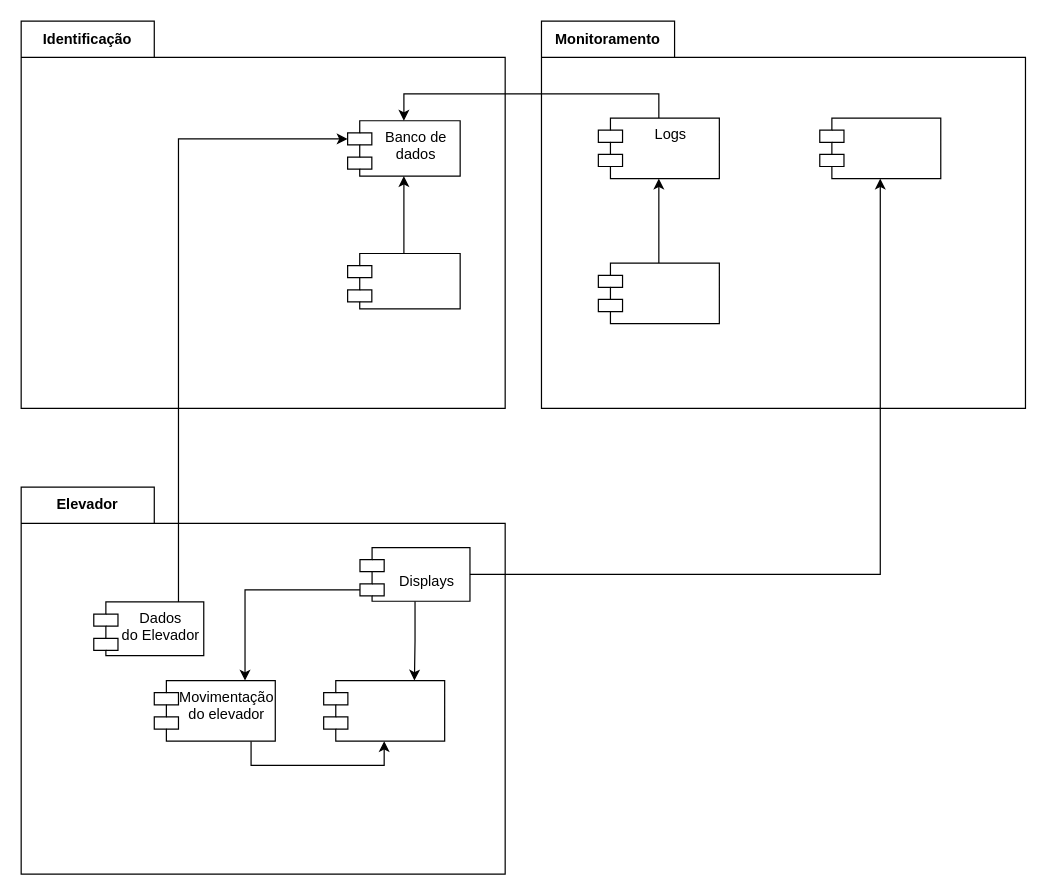
The diagram is 1047 pixels wide and 895 high, and some of its shapes have lost their labels. Each missing label, with the centre of its shape:
Câmera: point 403,280
Emergência: point 880,148
Relatório: point 658,293
Sensor de peso: point 383,710
